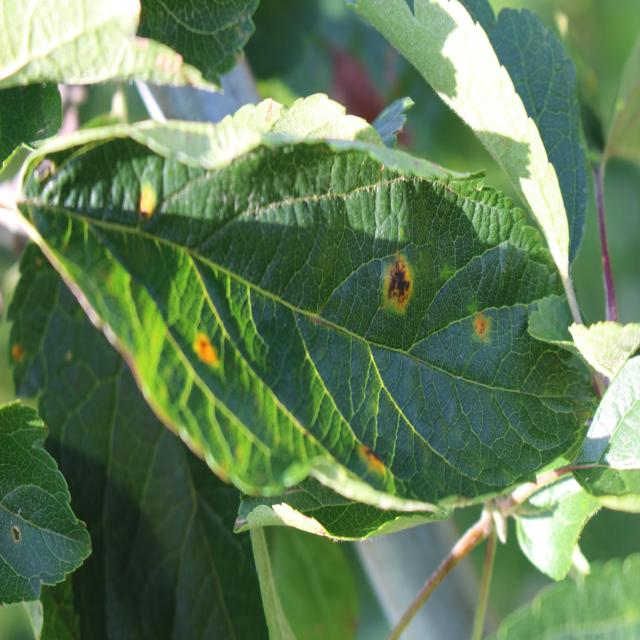Rust: (367, 240, 425, 332), (456, 278, 496, 381), (344, 425, 398, 489), (190, 311, 222, 385), (134, 166, 160, 232)
